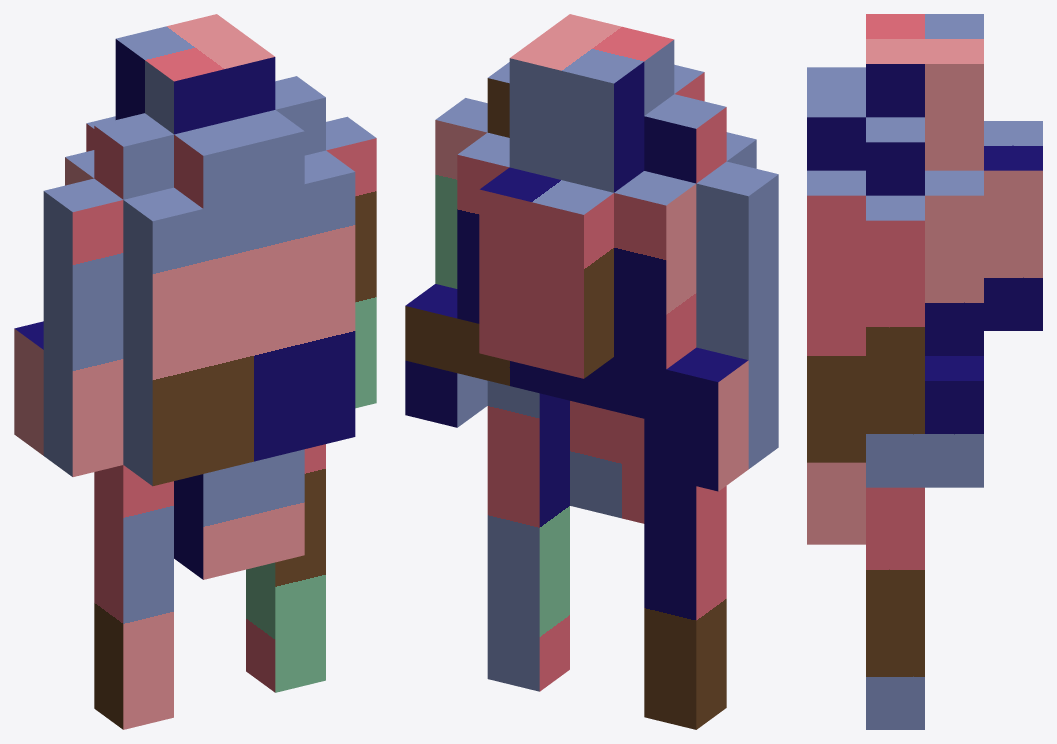
The model's file is SnuffleSnuff.obj.
3 renders of one model, left to right at view 1: azimuth 30°, elevation 25°; view 2: azimuth 150°, elevation 25°; view 3: azimuth 270°, elevation 25°, orthographic. The views are drawn at different scales.
Visible parts, largest first — view 1: Model; view 2: Model; view 3: Model.
Part boxes in pixels (<box>): Model: <box>14,14,376,729</box>; Model: <box>405,14,778,729</box>; Model: <box>807,14,1042,729</box>.
Size of the model in its own units: 16 by 32 by 10.67.
Materials: 1 (1 with a texture image).
